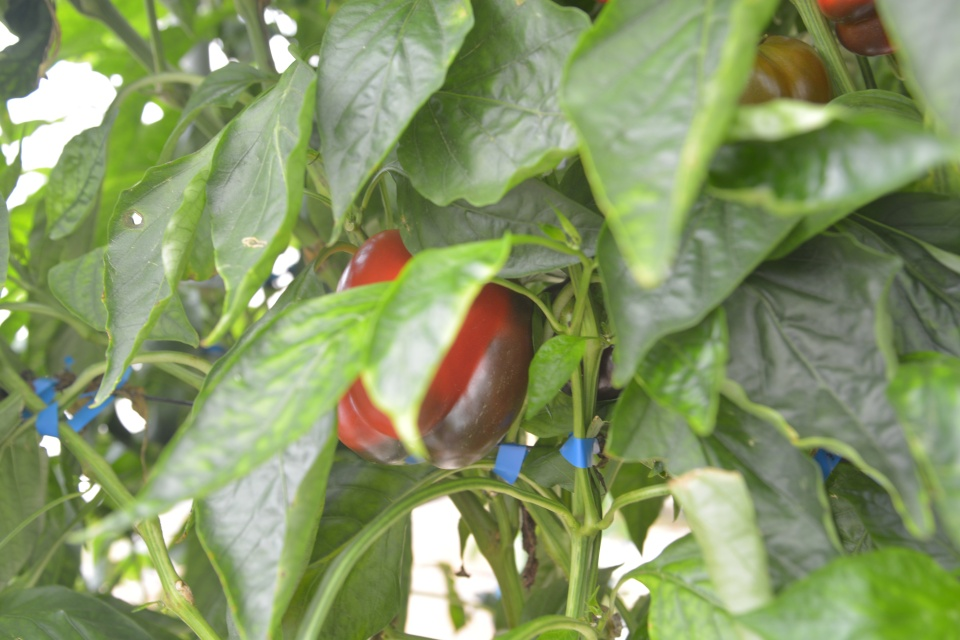fruit: (330, 228, 535, 469), (743, 32, 831, 104), (815, 0, 892, 55)
